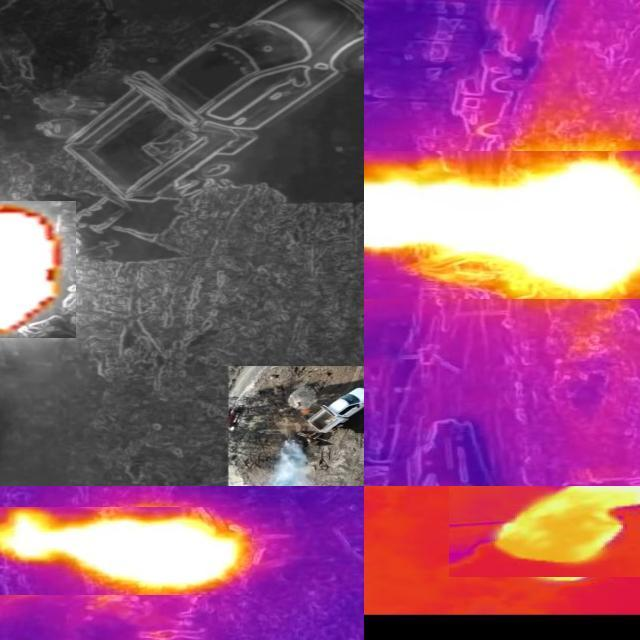fire: (365, 151, 640, 299), (1, 507, 253, 595), (495, 487, 640, 570), (1, 201, 77, 338)
